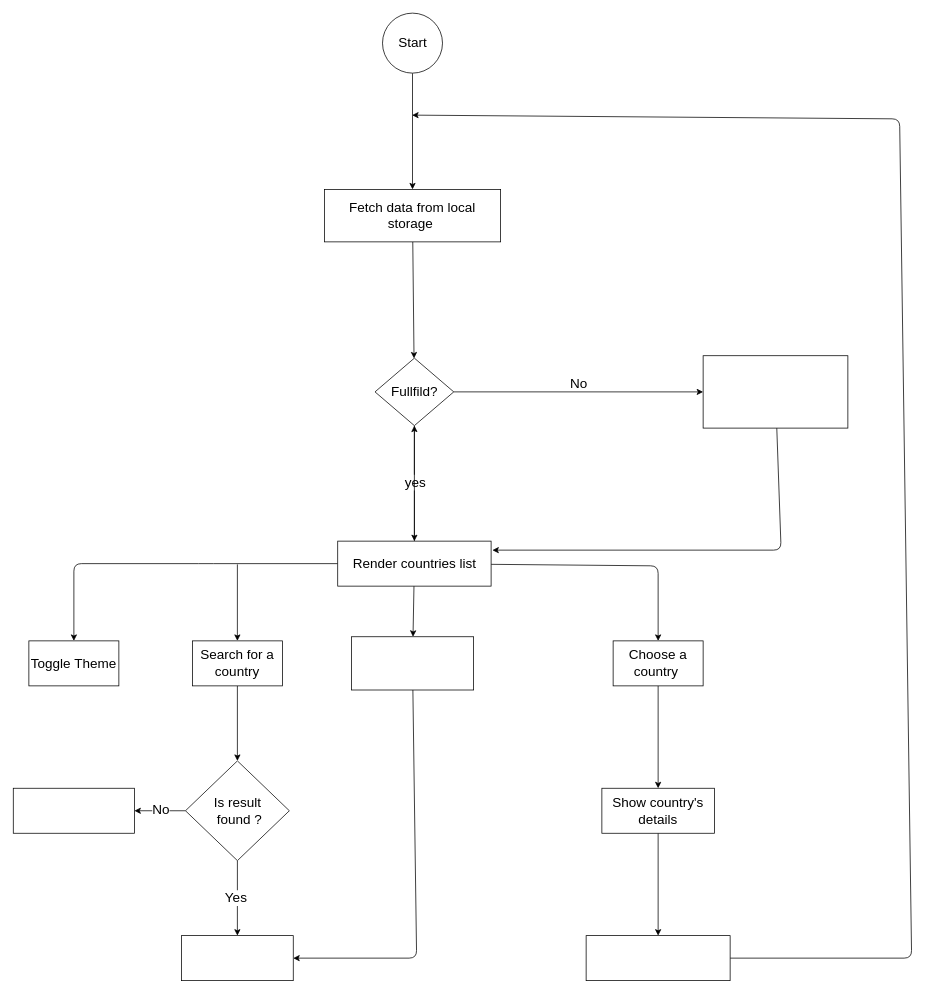
The diagram is 931 pixels wide and 994 high, and some of its shapes have lost their labels. Here are the shapes that lost their labels. From the top down, the centre of each, then its label:
pixel 775 391: Fetch data from API and save to local storage
pixel 412 663: Select region from dropdown list
pixel 73 810: Show "No result found" message
pixel 237 958: Render results
pixel 657 958: click "Back" button
